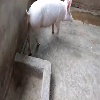heo: (24, 1, 82, 54)
